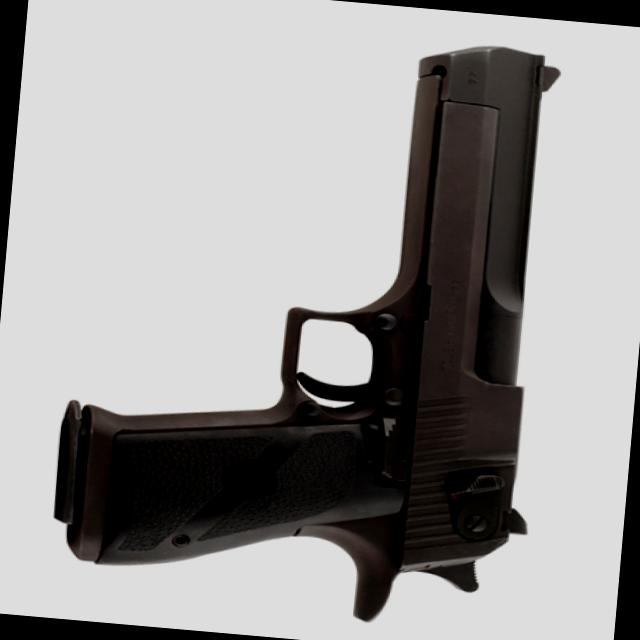handgun: (34, 0, 564, 638)
